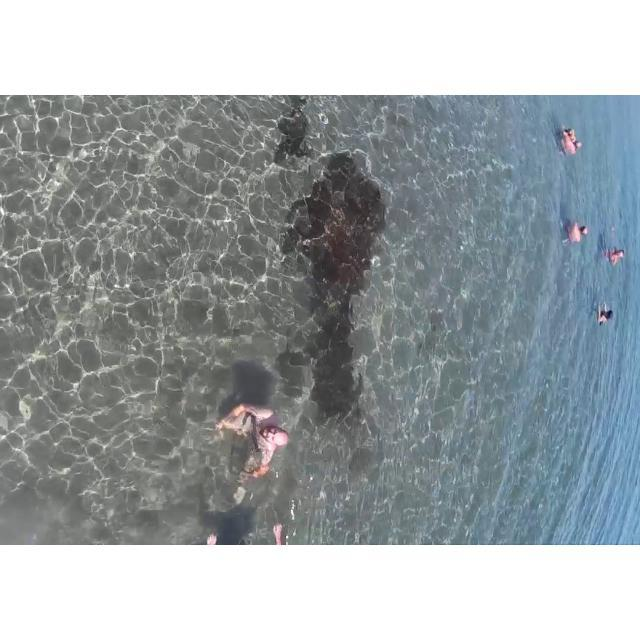human: (220, 383, 289, 495), (556, 111, 585, 164), (560, 199, 587, 255), (589, 297, 613, 331), (609, 238, 624, 275)
